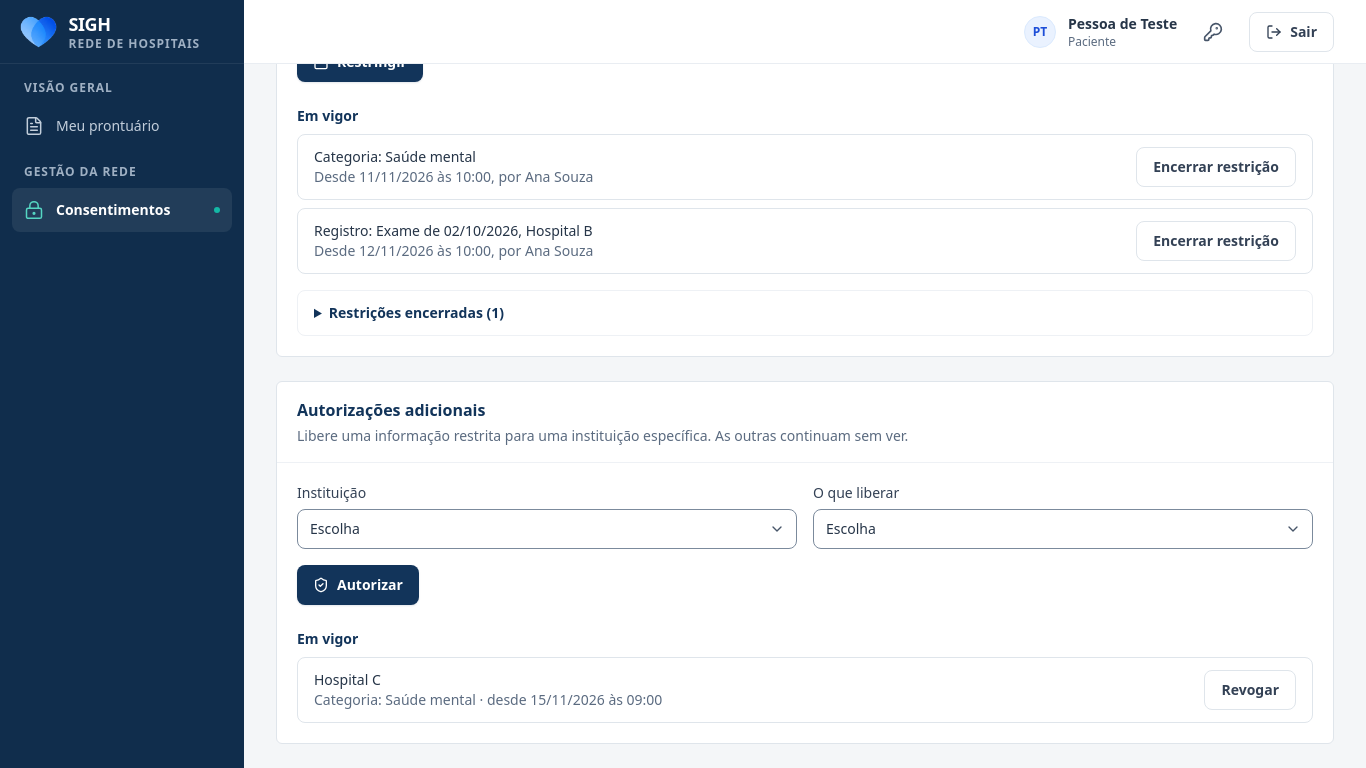
Test: FE-05: Consentimentos — autorizações adicionais (RF-009) › revogar uma autorização diz quem deixa de ver
Later steps or results of the test are not shown.
(page scrolled)
Expected: the text "Hospital C" is shown, 314,670 -> 381,689
Click the button with aria-label "Revogar autorização de Hospital C: Categoria: Saúde mental": (1250, 690) 1204,670 -> 1296,710
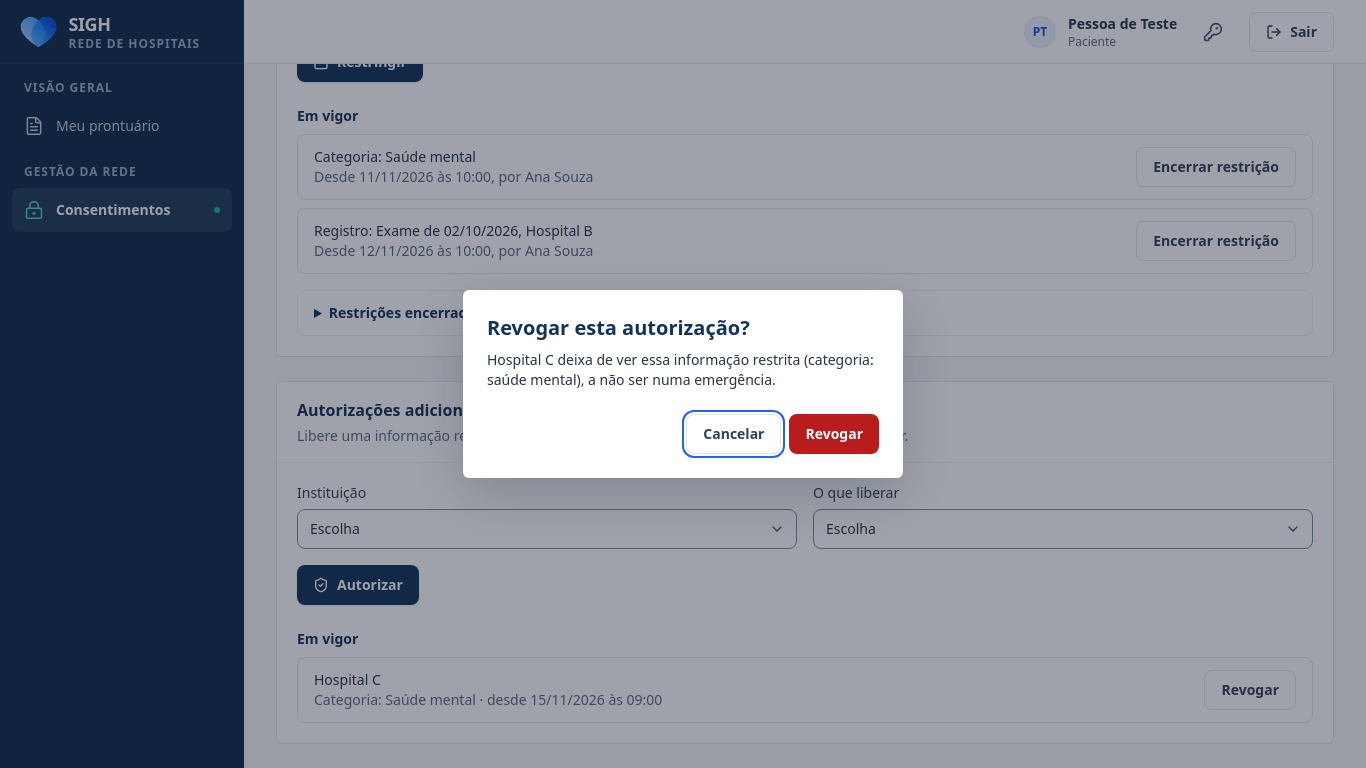
Expected: the dialog "Revogar esta autorização?" shows "Hospital C deixa de ver essa informação restrita (categoria: saúde mental), a não ser numa emergência.", 463,290 -> 903,478
